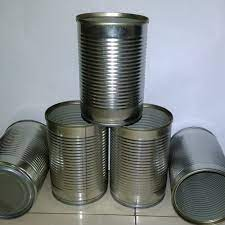metal: (75, 10, 147, 126), (45, 101, 112, 205), (111, 104, 173, 207), (168, 123, 225, 225), (1, 115, 49, 221)
